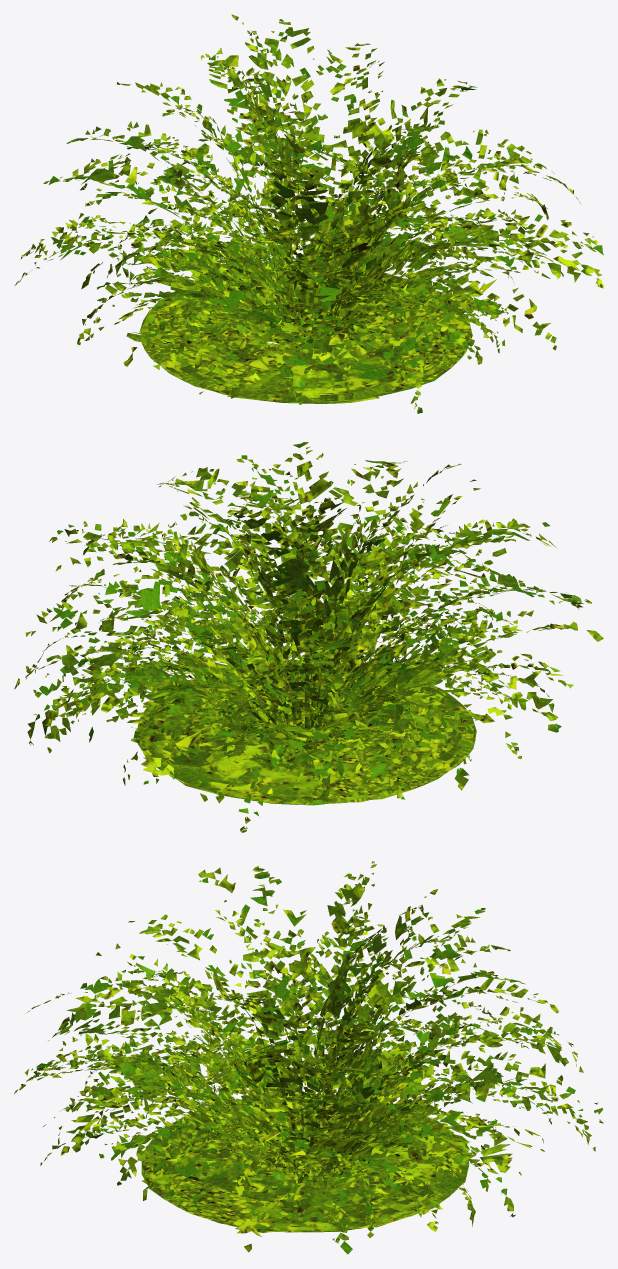
The model's file is veg_ground_fern_01.obj.
The picture shows the model from 3 angles, top to bottom: view 1: azimuth 30°, elevation 25°; view 2: azimuth 150°, elevation 25°; view 3: azimuth 270°, elevation 25°; orthographic projection. The views are drawn at different scales.
Visible parts, largest first — view 1: veg_ground_fern_01; view 2: veg_ground_fern_01; view 3: veg_ground_fern_01.
Part boxes in pixels (x1,y1,x2,y2): veg_ground_fern_01: (14,14,603,413); veg_ground_fern_01: (14,442,603,832); veg_ground_fern_01: (14,861,603,1254).
Bounding box in the file's own units: 0.6112 × 0.3526 × 0.65.
Materials: 1 (1 with a texture image).
